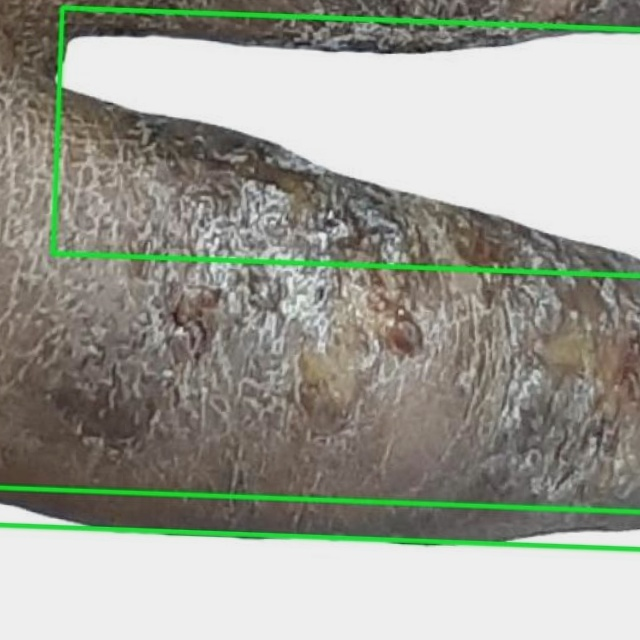Eczema: (0, 0, 639, 550), (51, 7, 639, 277)
